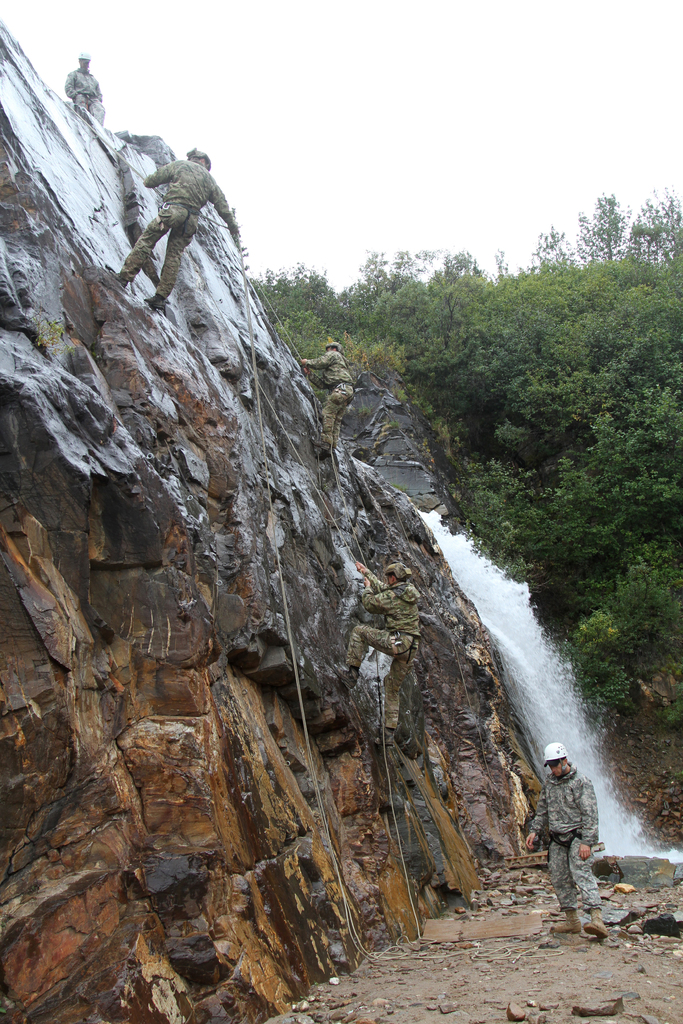Tree: (229, 184, 683, 735)
